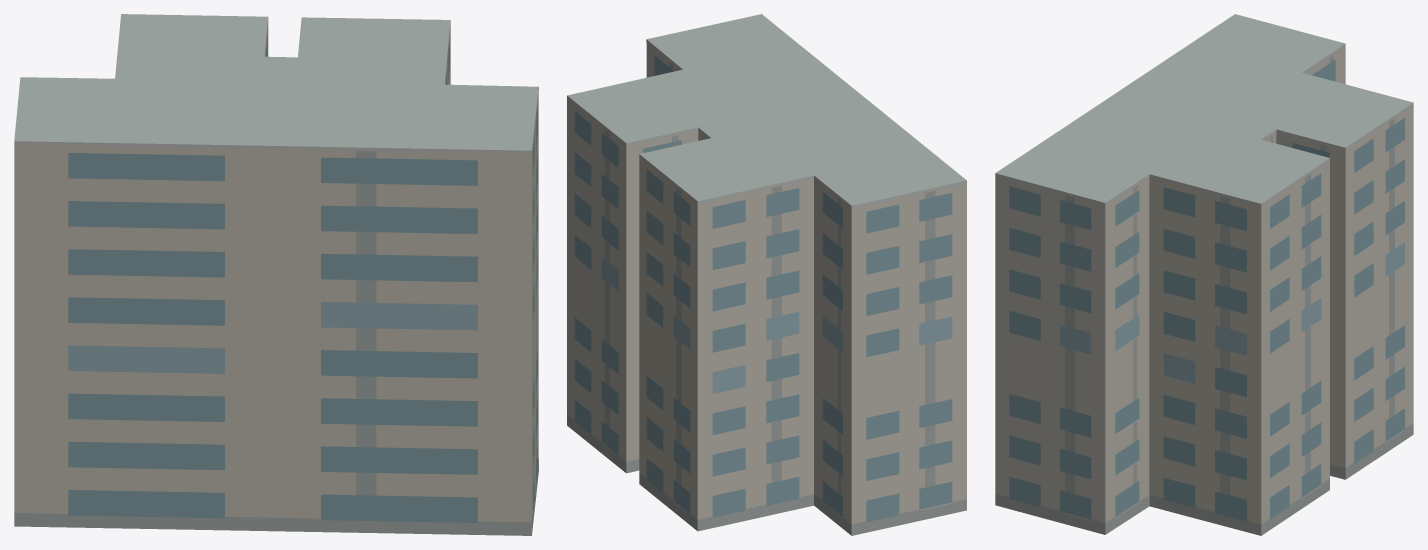
Rendered from survey-upis-32765322.glb.
3 renders of one model, left to right at view 1: azimuth 30°, elevation 25°; view 2: azimuth 150°, elevation 25°; view 3: azimuth 270°, elevation 25°, orthographic. The views are drawn at different scales.
Visible parts, largest first — view 1: survey-upis-32765322.tmp; view 2: survey-upis-32765322.tmp; view 3: survey-upis-32765322.tmp.
Part boxes in pixels (box(x1,y1,x2,y2)): survey-upis-32765322.tmp: box(14, 14, 538, 535); survey-upis-32765322.tmp: box(567, 14, 966, 535); survey-upis-32765322.tmp: box(995, 14, 1413, 535).
Size of the model in its own units: 30.91 by 25.2 by 28.78.
